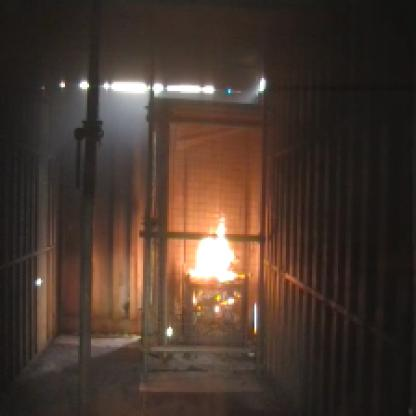Fire: (173, 212, 254, 325)
